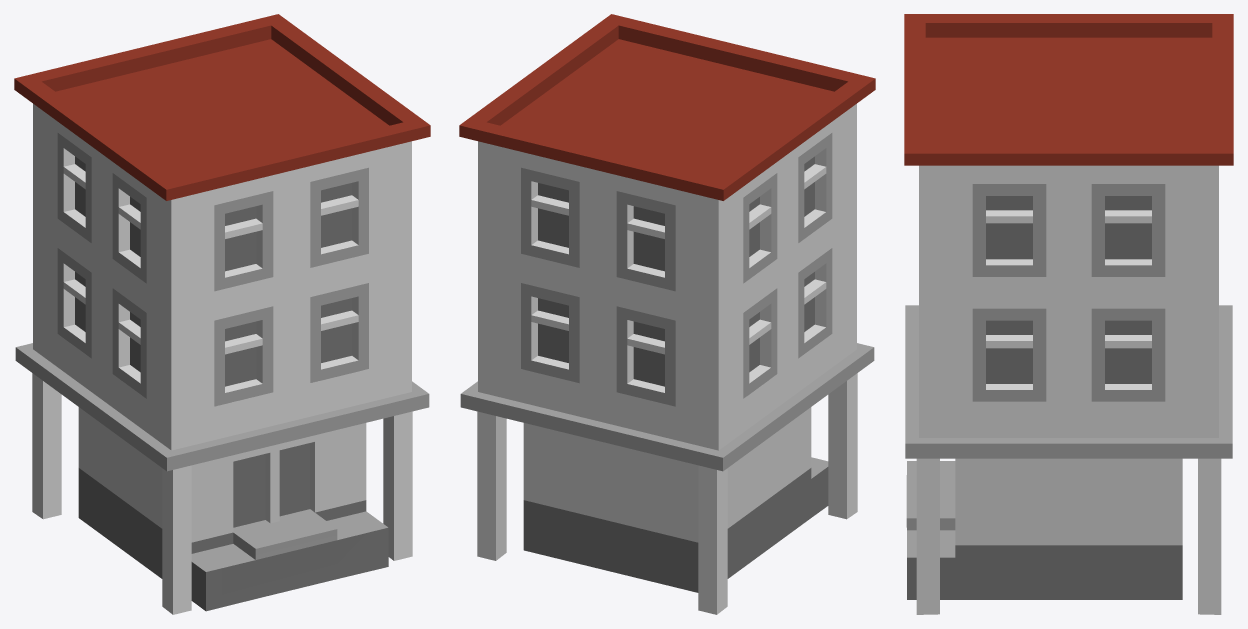
The model's file is house_02.glb.
3 views of the same model, side by side, from view 1: azimuth 30°, elevation 25°; view 2: azimuth 150°, elevation 25°; view 3: azimuth 270°, elevation 25° (orthographic). The views are drawn at different scales.
Visible parts, largest first — view 1: house_02; view 2: house_02; view 3: house_02.
Boxes of the visible parts, x1,y1,x2,y2 form: house_02: (14,14,430,614); house_02: (459,14,875,614); house_02: (904,14,1233,614).
Bounding box in the file's own units: 1.85 × 2.9 × 1.85.
